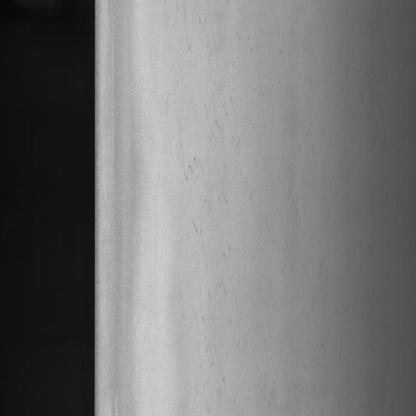silk_spot: (176, 23, 258, 389)
